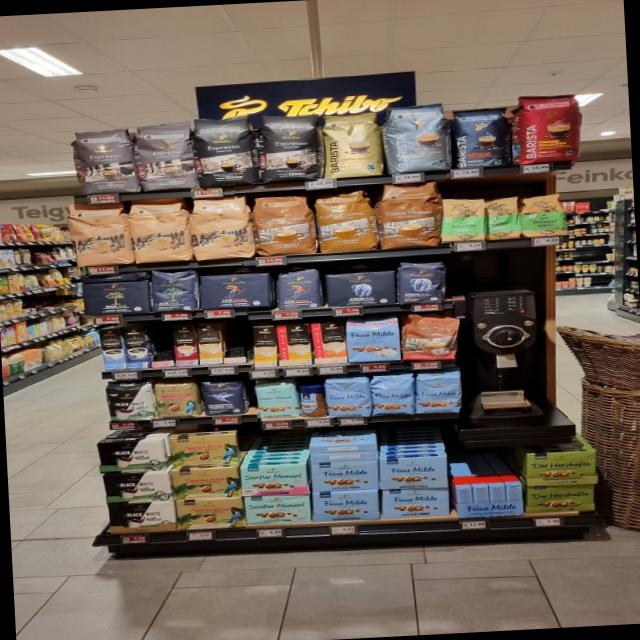AB Bohne: (394, 259, 452, 307)
AB Gemahlen: (323, 270, 399, 310)
Athiopien Bohne: (521, 194, 569, 239)
Athiopien Gemahlen: (440, 197, 487, 245), (486, 196, 523, 242)
BM Bohne: (150, 268, 202, 315)
BM Gemahlen: (77, 277, 155, 316)
BW Bohne: (104, 381, 155, 423)
BW Gemahlen: (96, 438, 168, 473), (103, 471, 174, 505), (108, 501, 177, 534)
Barista CB: (321, 111, 387, 181)
Barista CC: (379, 100, 455, 176)
Barista Espresso: (448, 104, 517, 170)
Barista Kolumbien: (512, 93, 585, 166)
C Fino Bohne: (198, 378, 249, 417)
CC Mild: (64, 200, 134, 268), (129, 197, 194, 267), (191, 194, 257, 262)
CC Vollmundig: (401, 310, 462, 362)
CC Vollmundig 36 Pads: (377, 180, 442, 252), (251, 190, 319, 258), (314, 188, 381, 254)
Colombia BB Bohne: (153, 379, 201, 420)
Colombia BB Gemahlen: (170, 434, 241, 468), (171, 467, 239, 501), (177, 497, 247, 530)
Empty Shelf: (223, 321, 254, 365), (148, 324, 175, 368)
Espresso Aromatisch: (70, 125, 142, 196), (135, 122, 199, 193)
Espresso Kraftig: (194, 116, 263, 192), (258, 114, 324, 185)
FM 36 Pads: (347, 313, 402, 365)
FM Bohne: (415, 370, 465, 415), (369, 372, 418, 417), (325, 375, 373, 419)
FM Gemahlen: (311, 490, 380, 523), (379, 457, 450, 489), (382, 487, 451, 519)
FM Instant: (298, 381, 329, 419)
Herzhatfe Mundig: (526, 451, 598, 487), (526, 483, 598, 514)
LG Bohne: (273, 267, 327, 312)
LG Gemahlen: (197, 272, 271, 310)
SM Bohne: (254, 382, 301, 420)
SM Gemahlen: (310, 460, 380, 493), (240, 464, 309, 496), (244, 495, 312, 525)
Simo CCMild: (277, 324, 313, 366)
Simo CCMild bigpack: (252, 325, 277, 369)
Simo CCVollmundig: (310, 321, 348, 365)
Simo Decaff: (197, 322, 223, 365)
Simo Es Caramel: (172, 323, 198, 367)
Simo Es Kraft: (122, 325, 152, 369)
Simo Es Vanilla: (100, 327, 126, 371)
